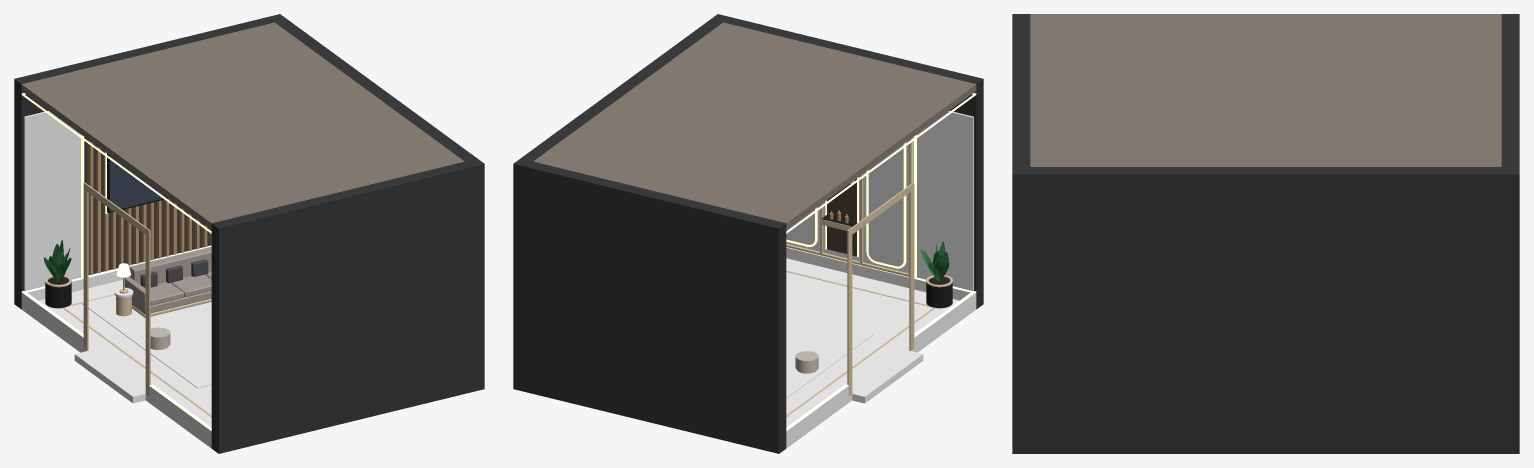
Rendered from SMB_VIPLounge.glb.
3 views of the same model, side by side, from view 1: azimuth 30°, elevation 25°; view 2: azimuth 150°, elevation 25°; view 3: azimuth 270°, elevation 25° (orthographic). The views are drawn at different scales.
Visible parts, largest first — view 1: VIP_Walls_Shell__MAT_Charcoal, VIP_Ceiling__MAT_VIP_Ceiling_Warm, VIP_Wall_Finishes__MAT_Black_Marble, VIP_Floor__MAT_Black_Marble, VIP_Rug__MAT_VIP_Rug, VIP_Wall_Finishes__MAT_VIP_Bronze, VIP_Sofa_02__MAT_VIP_Velvet_Taupe, VIP_Wall_Finishes__MAT_VIP_Bronze_Panel, VIP_Wall_Finishes__MAT_Champagne_Metal, VIP_Floor__MAT_White_Marble, VIP_Wall_Finishes__MAT_LED_Warm, VIP_TV__MAT_VIP_TV_Screen (+3 smaller); view 2: VIP_Walls_Shell__MAT_Charcoal, VIP_Ceiling__MAT_VIP_Ceiling_Warm, VIP_Wall_Finishes__MAT_Black_Marble, VIP_Floor__MAT_White_Marble, VIP_Floor__MAT_Black_Marble, VIP_Mirror_01__MAT_VIP_Mirror, VIP_Rug__MAT_VIP_Rug, VIP_Wall_Finishes__MAT_Champagne_Metal, VIP_Wall_Finishes__MAT_LED_Warm, VIP_Vanity_Panel__MAT_VIP_Bronze_Panel, VIP_Mirror_01__MAT_Black_Marble, VIP_Mirror_01__MAT_Champagne_Metal (+6 smaller); view 3: VIP_Walls_Shell__MAT_Charcoal, VIP_Ceiling__MAT_VIP_Ceiling_Warm.
Part boxes in pixels (x1,y1,x2,y2): VIP_Walls_Shell__MAT_Charcoal: [14, 14, 484, 453]; VIP_Ceiling__MAT_VIP_Ceiling_Warm: [21, 22, 464, 229]; VIP_Wall_Finishes__MAT_Black_Marble: [21, 111, 211, 441]; VIP_Floor__MAT_Black_Marble: [21, 280, 211, 448]; VIP_Rug__MAT_VIP_Rug: [82, 295, 211, 388]; VIP_Wall_Finishes__MAT_VIP_Bronze: [88, 140, 211, 275]; VIP_Sofa_02__MAT_VIP_Velvet_Taupe: [124, 246, 211, 314]; VIP_Wall_Finishes__MAT_VIP_Bronze_Panel: [84, 137, 210, 274]; VIP_Wall_Finishes__MAT_Champagne_Metal: [83, 182, 150, 395]; VIP_Floor__MAT_White_Marble: [65, 303, 211, 414]; VIP_Wall_Finishes__MAT_LED_Warm: [21, 93, 211, 430]; VIP_TV__MAT_VIP_TV_Screen: [110, 156, 166, 211]; VIP_Walls_Shell__MAT_Charcoal: [513, 14, 983, 453]; VIP_Ceiling__MAT_VIP_Ceiling_Warm: [533, 22, 976, 229]; VIP_Wall_Finishes__MAT_Black_Marble: [786, 111, 976, 441]; VIP_Floor__MAT_White_Marble: [786, 272, 932, 414]; VIP_Floor__MAT_Black_Marble: [786, 258, 976, 448]; VIP_Mirror_01__MAT_VIP_Mirror: [868, 144, 903, 266]; VIP_Rug__MAT_VIP_Rug: [786, 313, 873, 398]; VIP_Wall_Finishes__MAT_Champagne_Metal: [847, 182, 914, 395]; VIP_Wall_Finishes__MAT_LED_Warm: [786, 93, 976, 430]; VIP_Vanity_Panel__MAT_VIP_Bronze_Panel: [827, 178, 856, 256]; VIP_Mirror_01__MAT_Black_Marble: [863, 137, 913, 273]; VIP_Mirror_01__MAT_Champagne_Metal: [860, 138, 911, 276]; VIP_Walls_Shell__MAT_Charcoal: [1012, 14, 1519, 453]; VIP_Ceiling__MAT_VIP_Ceiling_Warm: [1030, 14, 1501, 166].
Size of the model in its own units: 22 by 17 by 28.
